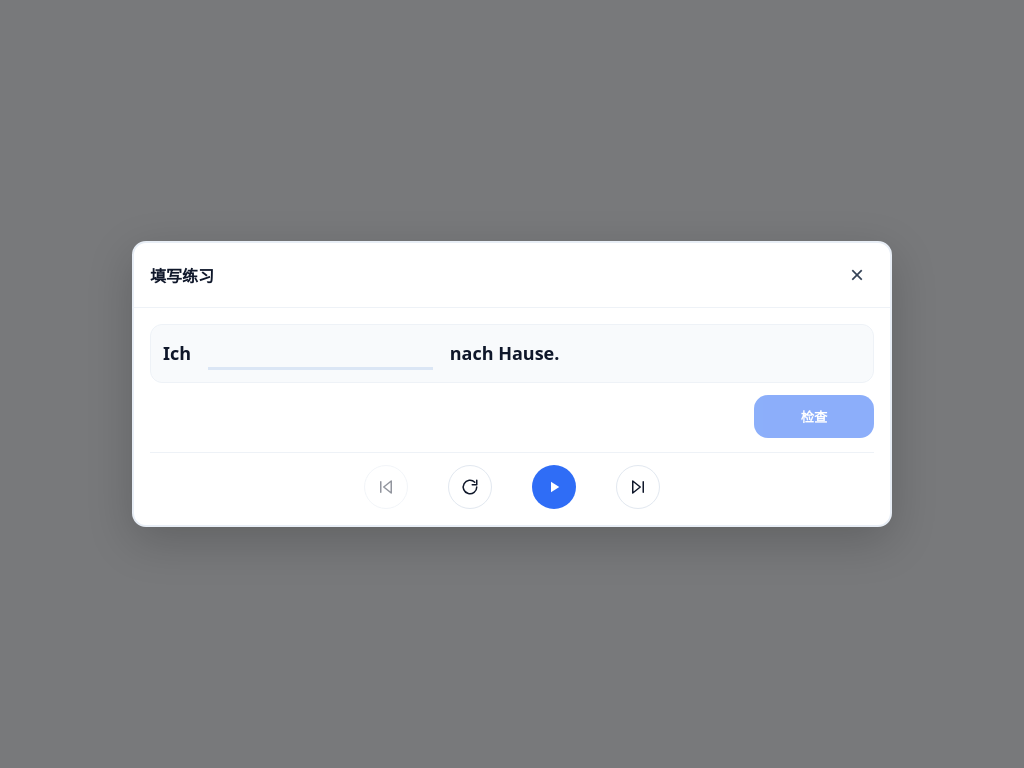
FillInExerciseModal automatic flow › does not auto-advance after retrying an automatic correct result and checking manually
Step 1. Type "gehe" into the field → [320, 356], box [208, 342, 433, 370]
Wait 2000 ms
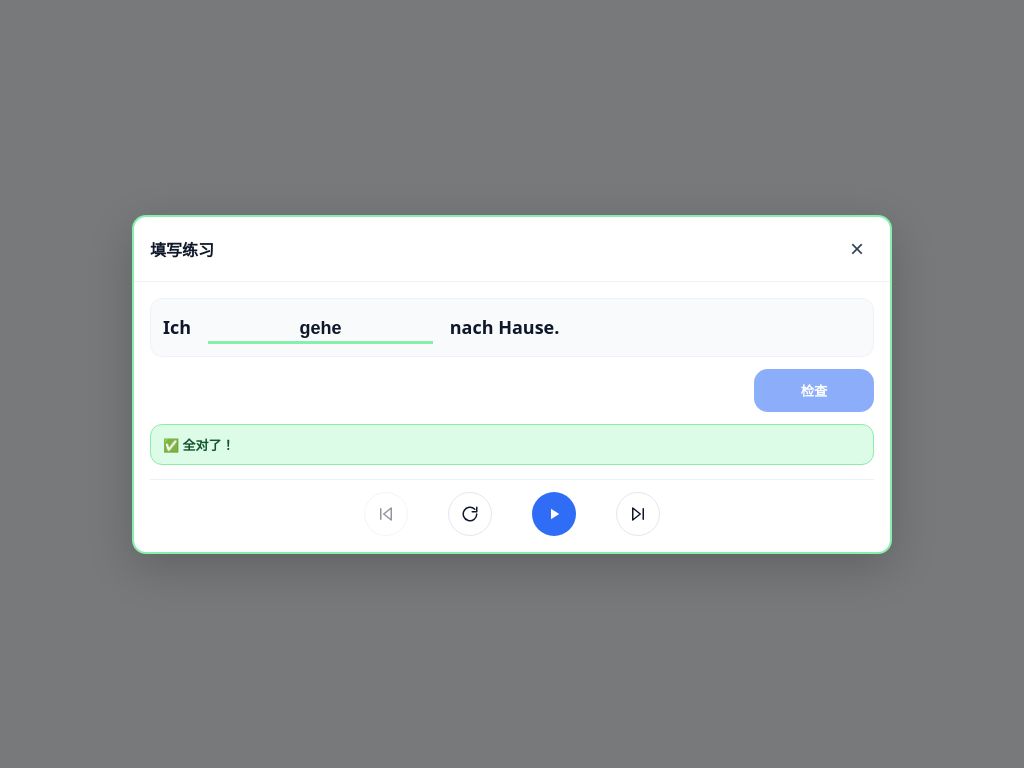
Result: the text "✅ 全对了！" is shown at [150, 424, 874, 464]
Step 2. Click the button named "Retry" → [470, 514], box [448, 492, 492, 536]
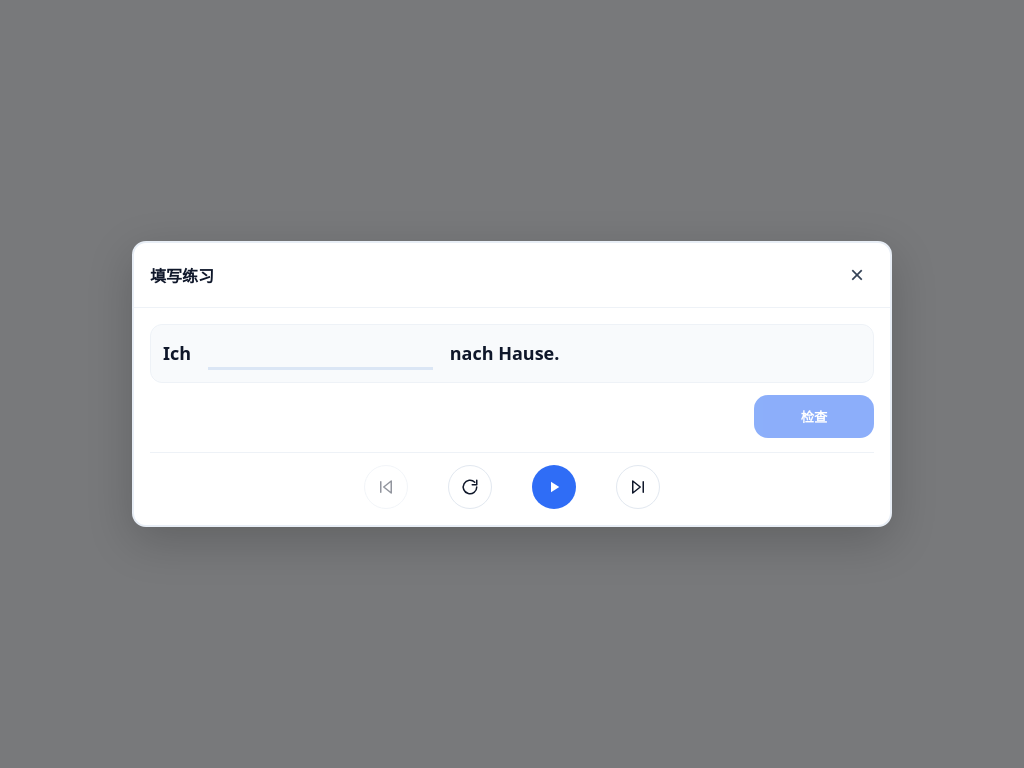
Step 3. Type "gehe" into the field → [320, 356], box [208, 342, 433, 370]
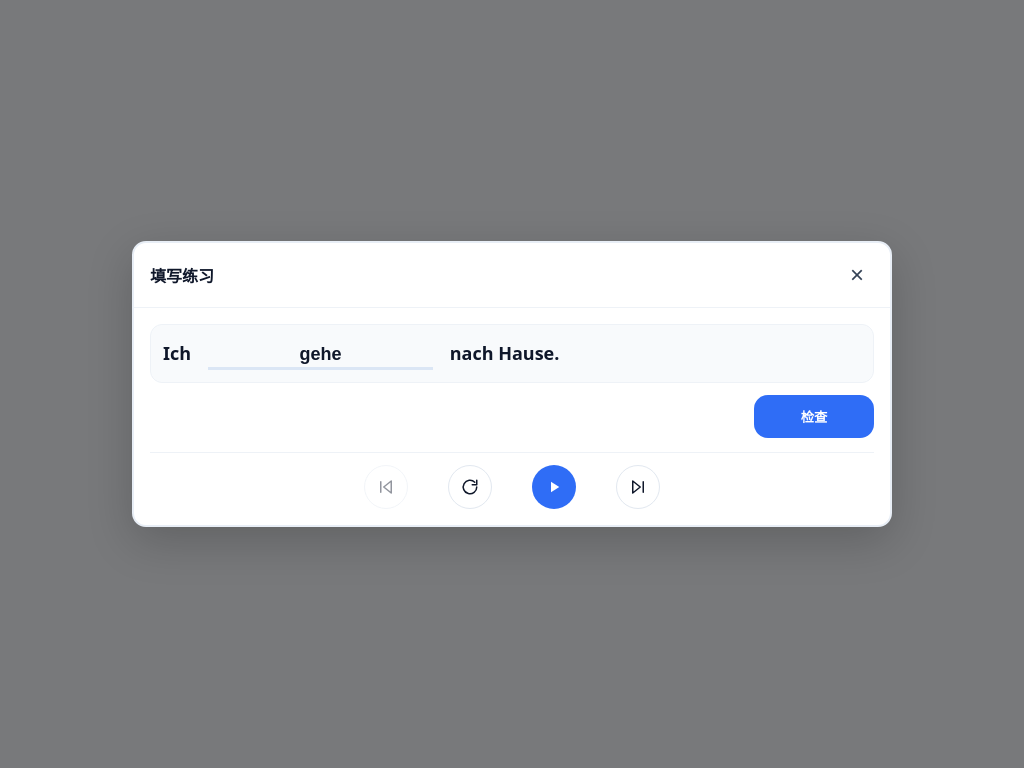
Step 4. Click the button "检查" → [814, 416], box [754, 395, 874, 438]
Wait 1000 ms
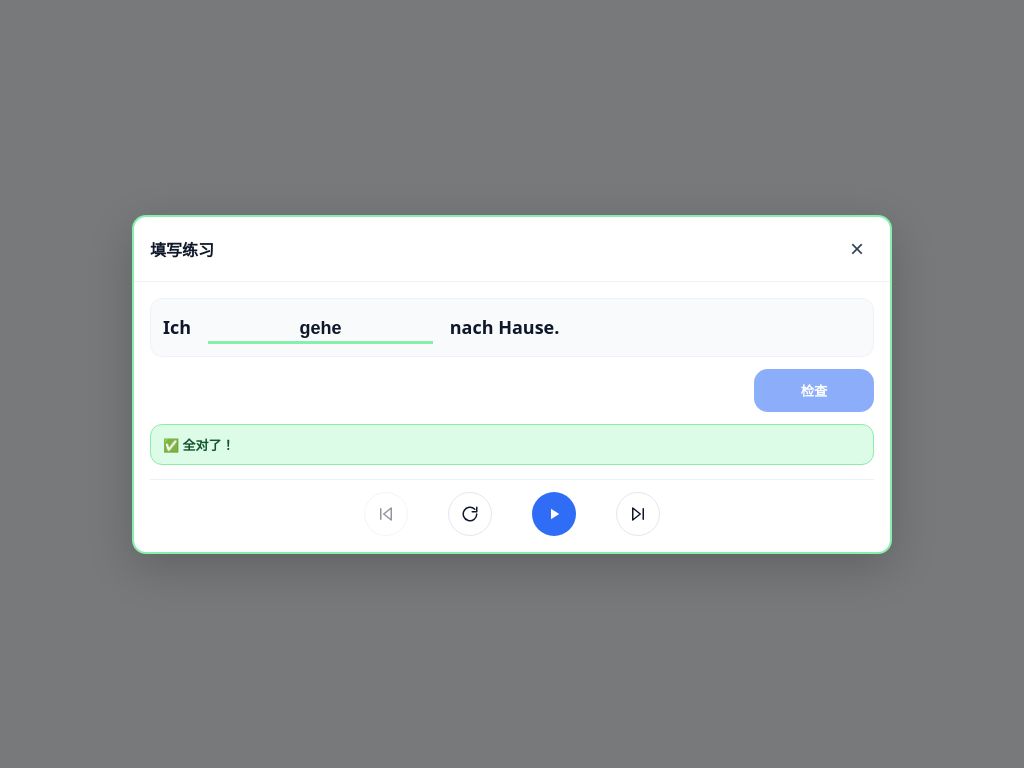
Result: the text "✅ 全对了！" is shown at [150, 424, 874, 464]
